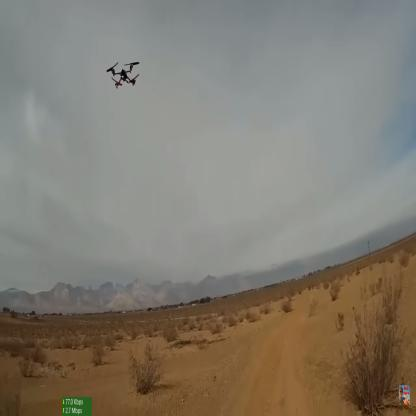drone: (103, 58, 146, 92)
